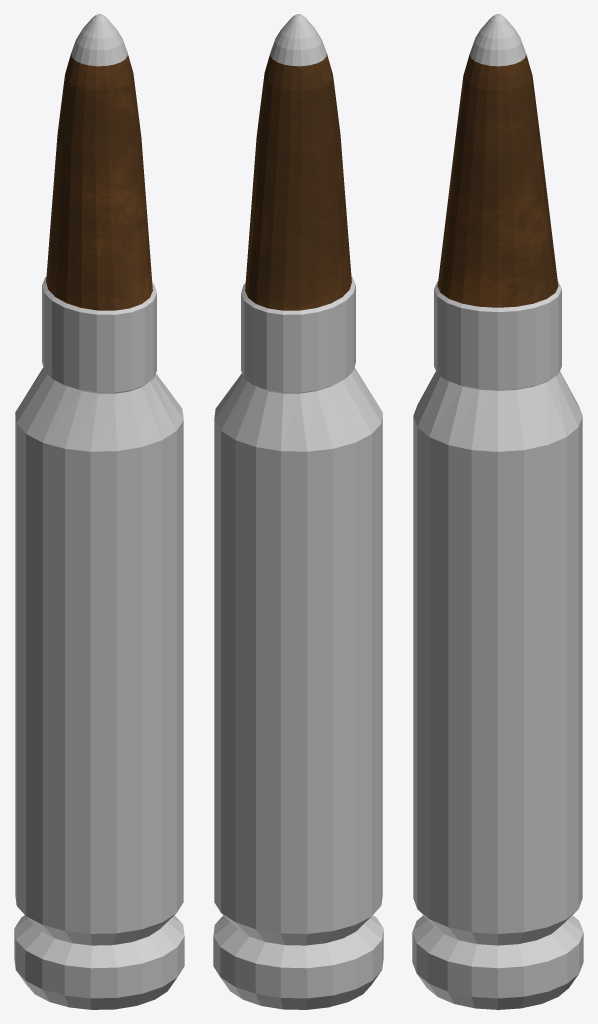
File: bullet.fbx
3 views of the same model, side by side, from view 1: azimuth 30°, elevation 25°; view 2: azimuth 150°, elevation 25°; view 3: azimuth 270°, elevation 25° (orthographic).
Visible parts, largest first — view 1: pCylinder1; view 2: pCylinder1; view 3: pCylinder1.
Boxes of the visible parts, box(x1,y1,x2,y2) form: pCylinder1: box(14, 14, 184, 1009); pCylinder1: box(213, 14, 383, 1009); pCylinder1: box(412, 14, 583, 1009).
Size of the model in its own units: 2.66 by 16.52 by 2.66.
